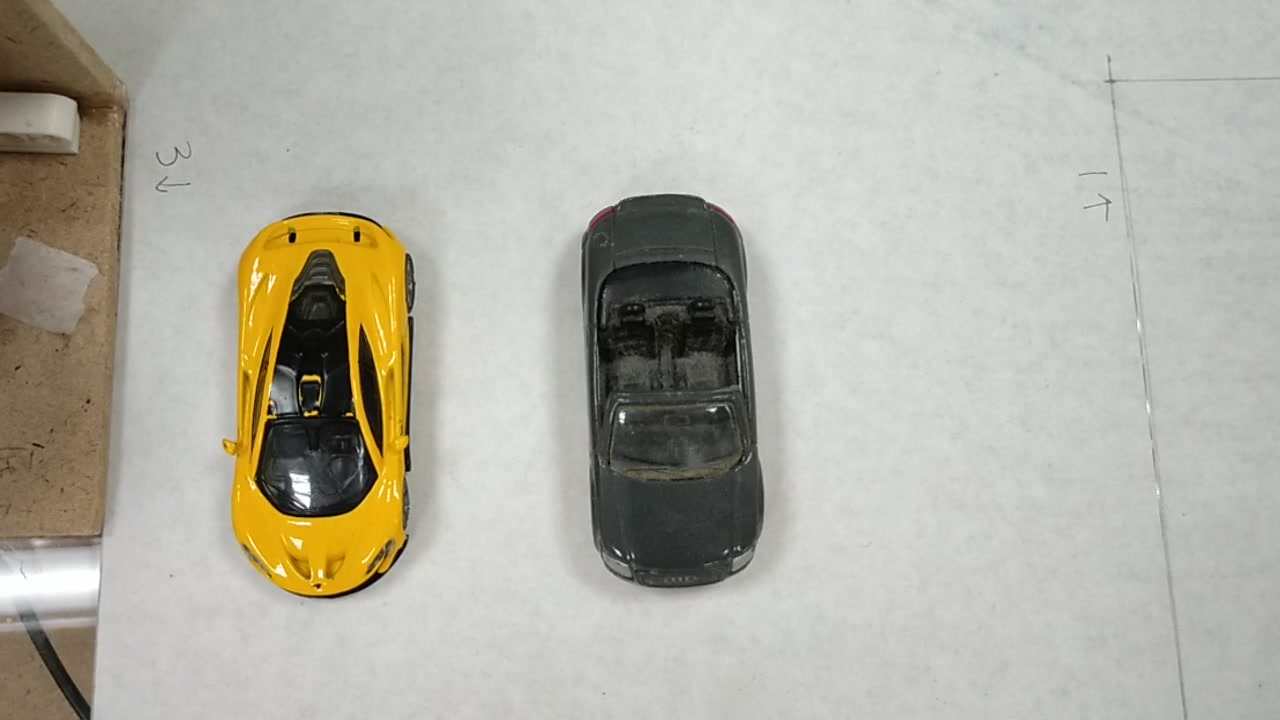car: (231, 224, 417, 581), (587, 212, 757, 573)
